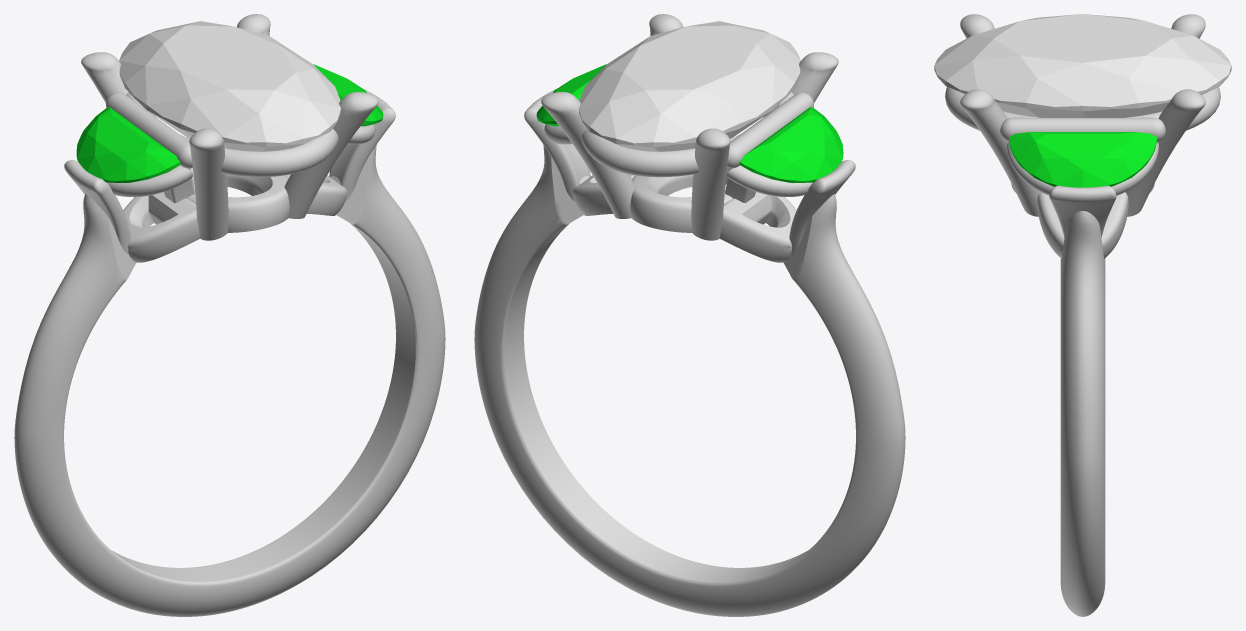
File: JennaV2PT_blender.glb
The picture shows the model from 3 angles, left to right: view 1: azimuth 30°, elevation 25°; view 2: azimuth 150°, elevation 25°; view 3: azimuth 270°, elevation 25°; orthographic projection.
Visible parts, largest first — view 1: V2 Jenna PT for 3d model, Jenna dia for 3d model, V2 Jenna emerald for 3d model.001, V2 Jenna emerald for 3d model; view 2: V2 Jenna PT for 3d model, Jenna dia for 3d model, V2 Jenna emerald for 3d model.001, V2 Jenna emerald for 3d model; view 3: V2 Jenna PT for 3d model, Jenna dia for 3d model, V2 Jenna emerald for 3d model.
Part boxes in pixels (x1=…): V2 Jenna PT for 3d model: x1=14, y1=14, x2=445, y2=616; Jenna dia for 3d model: x1=119, y1=21, x2=340, y2=151; V2 Jenna emerald for 3d model.001: x1=76, y1=107, x2=180, y2=182; V2 Jenna emerald for 3d model: x1=313, y1=64, x2=383, y2=126; V2 Jenna PT for 3d model: x1=474, y1=14, x2=905, y2=616; Jenna dia for 3d model: x1=579, y1=21, x2=800, y2=151; V2 Jenna emerald for 3d model.001: x1=739, y1=107, x2=843, y2=182; V2 Jenna emerald for 3d model: x1=536, y1=64, x2=606, y2=126; V2 Jenna PT for 3d model: x1=945, y1=14, x2=1220, y2=616; Jenna dia for 3d model: x1=934, y1=14, x2=1231, y2=117; V2 Jenna emerald for 3d model: x1=1009, y1=132, x2=1156, y2=187.
Size of the model in its own units: 20.08 by 24.77 by 12.01.
